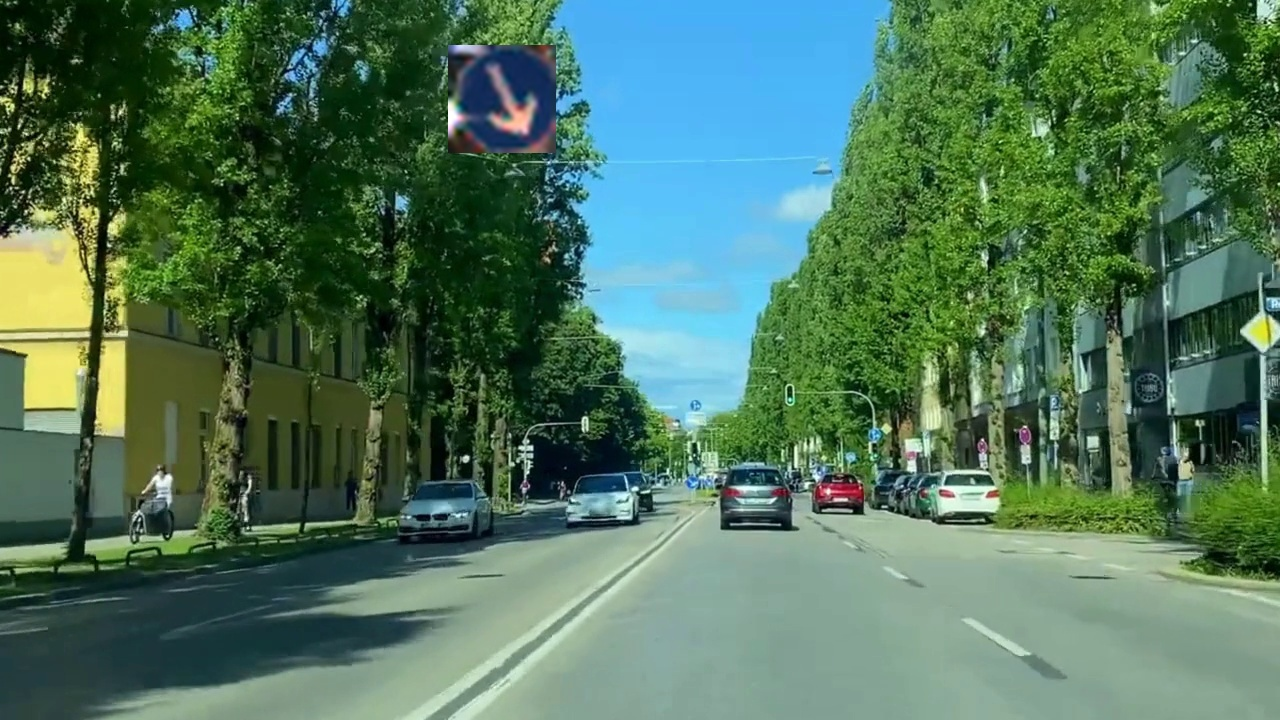Keep right: (448, 45, 556, 153)
